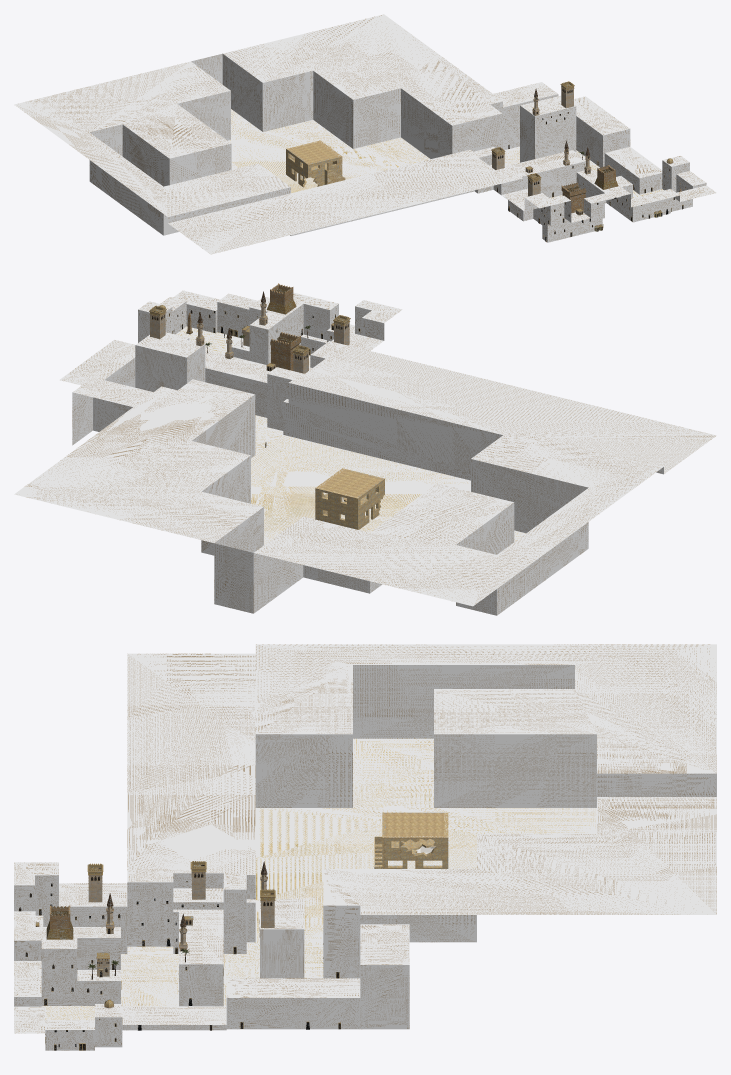
File: irak map.dae
3 views of the same model, one above another, from view 1: azimuth 30°, elevation 25°; view 2: azimuth 150°, elevation 25°; view 3: azimuth 270°, elevation 25° (orthographic). The views are drawn at different scales.
Parts seen in each view (by area): view 1: Component_1 (×3), Bombed_Middle_Eastern_Store (×2), twrTall; view 2: Component_1 (×3), Bombed_Middle_Eastern_Store (×2), twrTall; view 3: Component_1 (×3), Bombed_Middle_Eastern_Store (×2).
Part boxes in pixels (x1,y1,x2,y2): Component_1 (×3): (14, 14, 716, 254); Bombed_Middle_Eastern_Store (×2): (286, 140, 345, 187); twrTall: (561, 184, 586, 213); Component_1 (×3): (14, 290, 716, 615); Bombed_Middle_Eastern_Store (×2): (315, 468, 384, 529); twrTall: (270, 334, 300, 370); Component_1 (×3): (14, 644, 716, 1050); Bombed_Middle_Eastern_Store (×2): (374, 812, 448, 868).
Size of the model in its own units: 9124 by 7909 by 1594.
27 materials, 16 textured.
